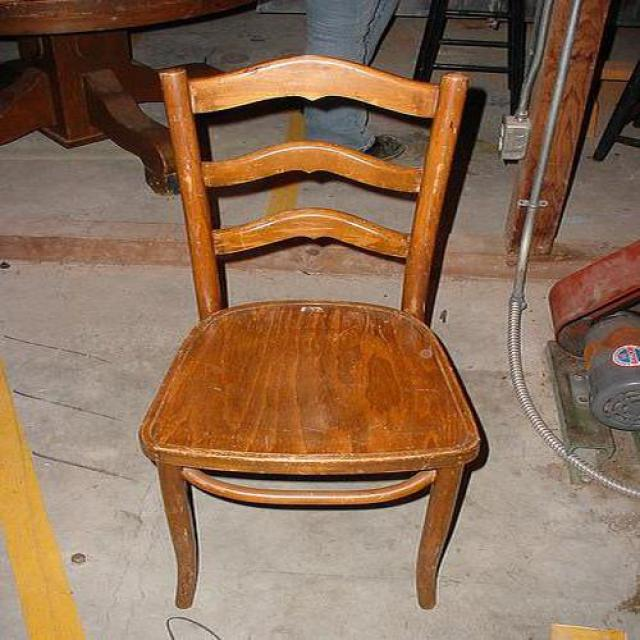chair: (138, 52, 492, 612)
